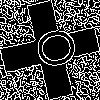O: (25, 25, 79, 73)
